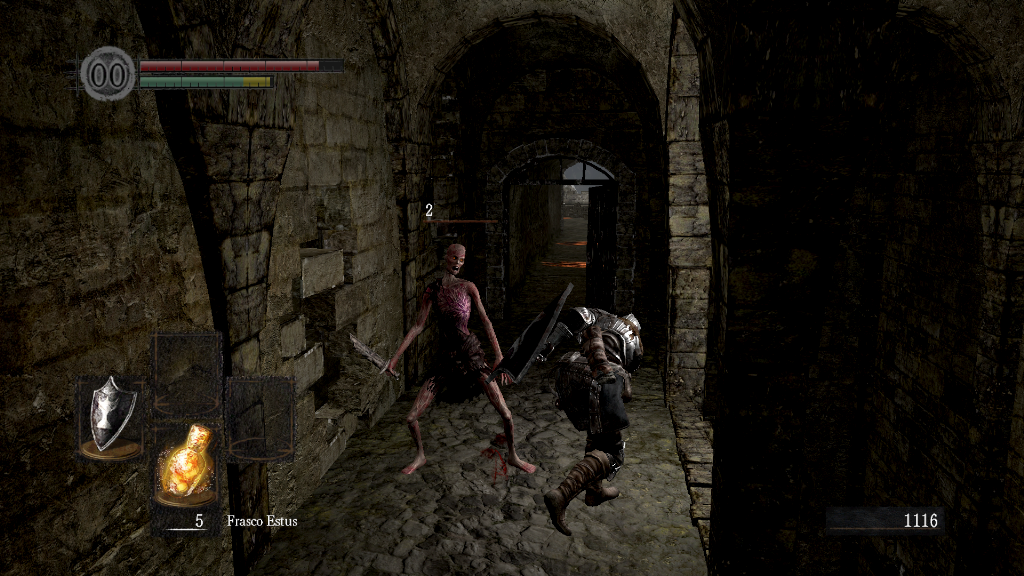health: (138, 58, 343, 71)
hollow: (397, 245, 541, 479)
humanity: (80, 45, 136, 102)
player: (486, 283, 646, 536)
souls: (825, 506, 945, 536)
stamina: (138, 74, 274, 88)
